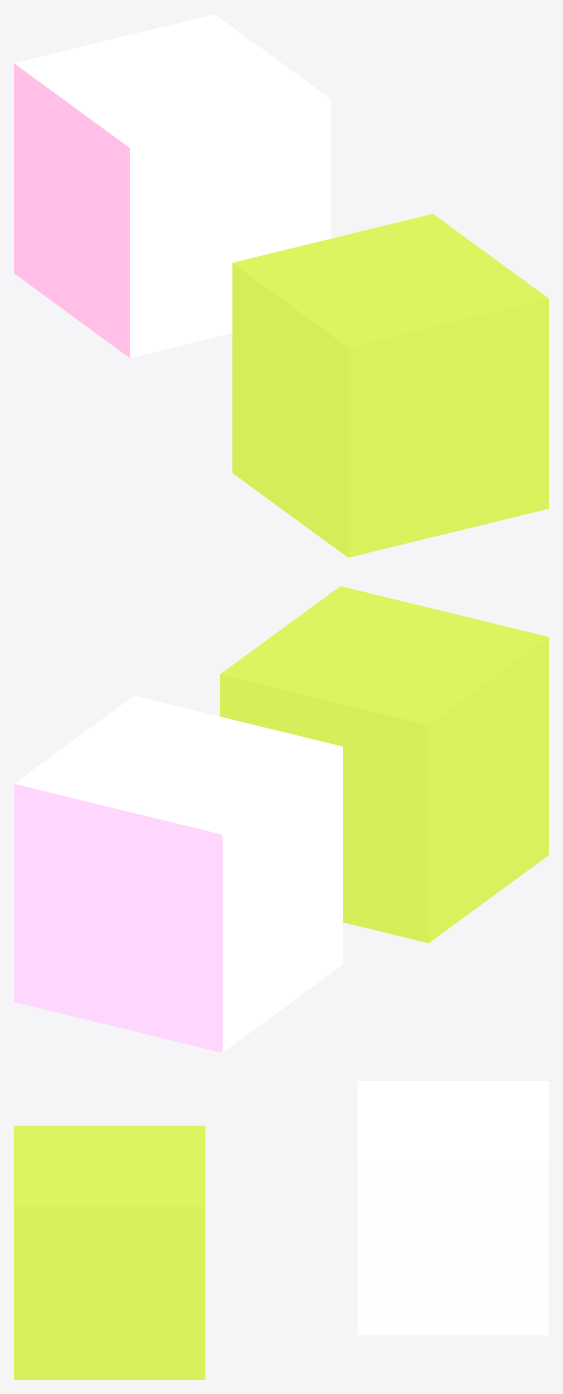
Rendered from bloom-cube3.gltf.
3 renders of one model, top to bottom at view 1: azimuth 30°, elevation 25°; view 2: azimuth 150°, elevation 25°; view 3: azimuth 270°, elevation 25°, orthographic. The views are drawn at different scales.
Visible parts, largest first — view 1: Cube, Cube.001; view 2: Cube.001, Cube; view 3: Cube.001, Cube.
Part boxes in pixels (<box>): Cube: <box>232,214,548,557</box>; Cube.001: <box>14,14,330,357</box>; Cube.001: <box>14,695,342,1052</box>; Cube: <box>220,586,548,943</box>; Cube.001: <box>357,1081,548,1335</box>; Cube: <box>14,1125,205,1379</box>.
Bounding box in the file's own units: 2.1 × 2.47 × 5.6.
